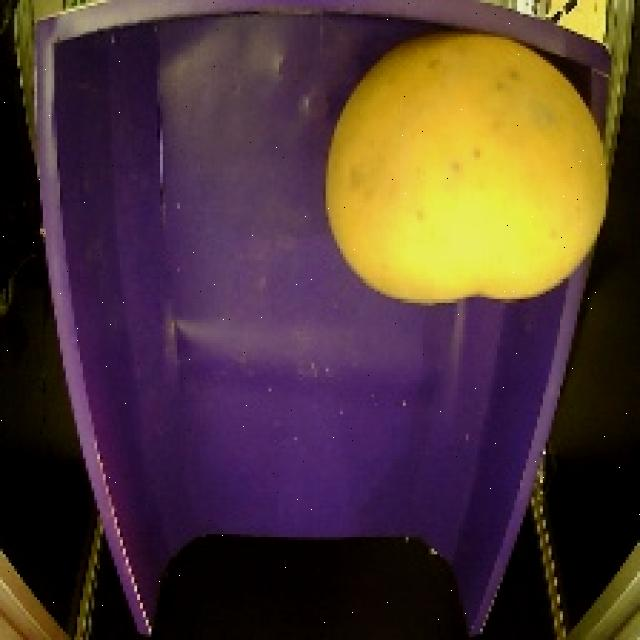full_potato: (314, 20, 621, 318)
